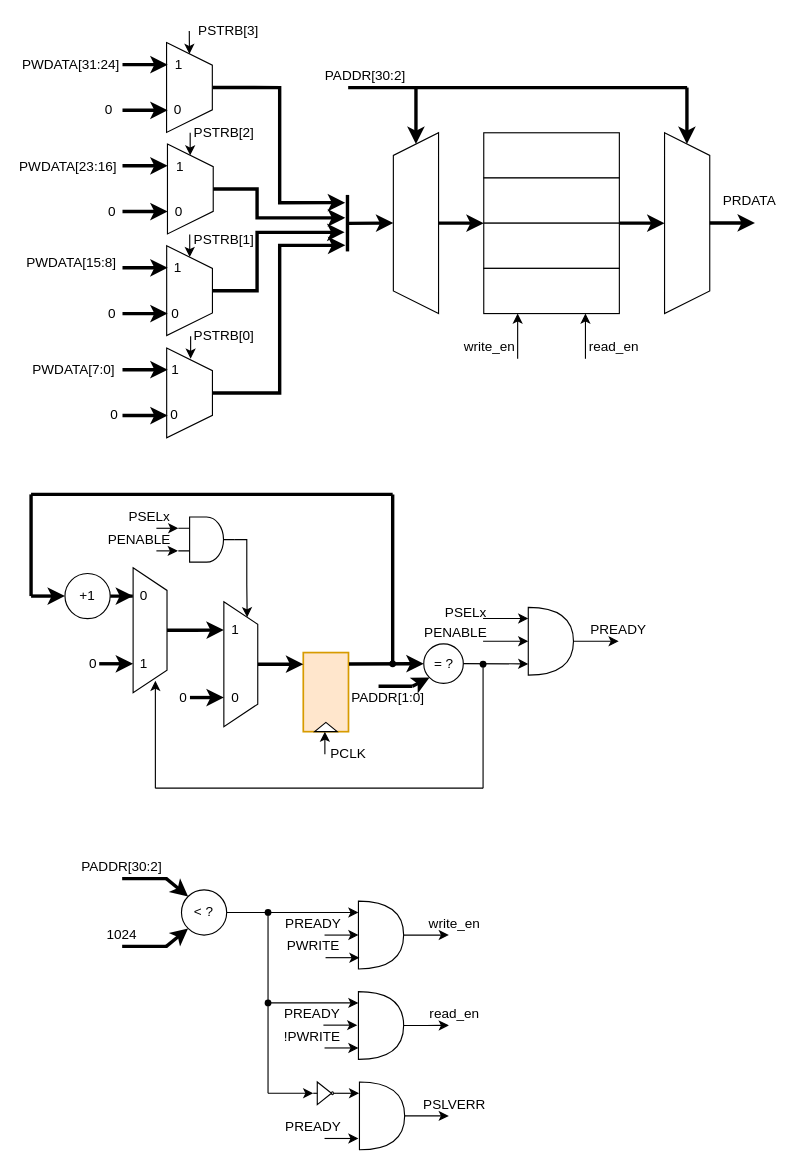
Image size: 802x1170. Some labels were removed from this diagram. The shapes that lost their labels are listed below. From the top down, each one's box as (x1, y1, x2, y2) in pixels, then its label:
(302, 651, 349, 732): FF
(256, 900, 279, 924): addr_ok
